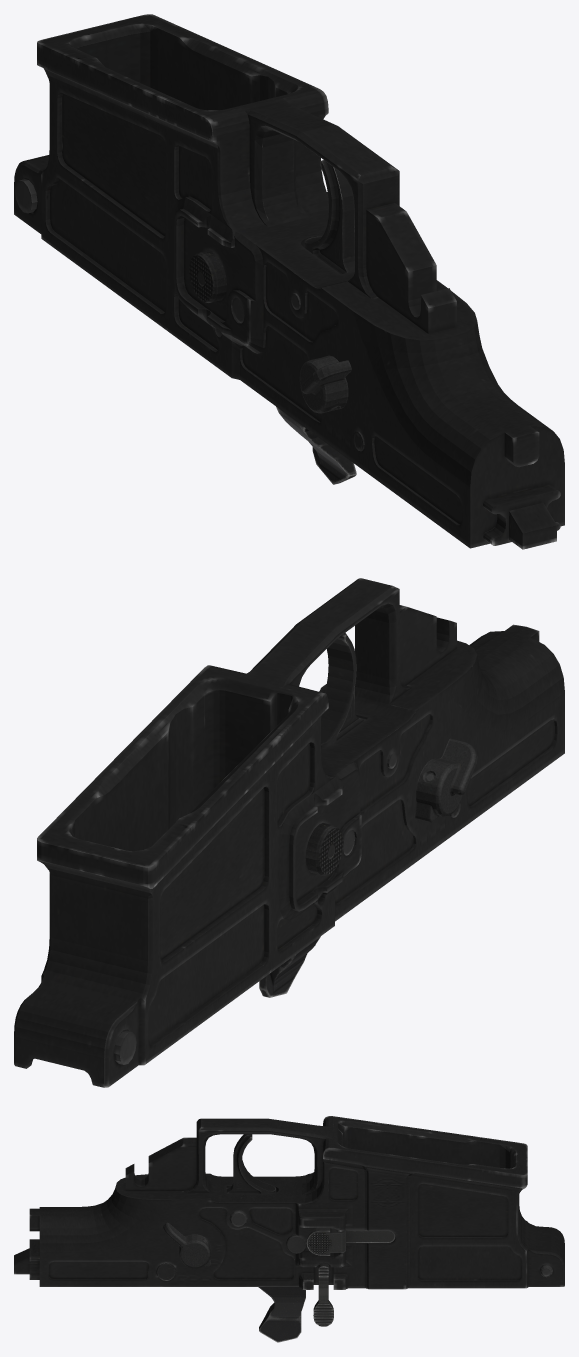
The picture shows the model from 3 angles, top to bottom: view 1: azimuth 30°, elevation 25°; view 2: azimuth 150°, elevation 25°; view 3: azimuth 270°, elevation 25°; orthographic projection. The views are drawn at different scales.
Visible parts, largest first — view 1: TW_676176d362e0497044079f4c_PZ_Import; view 2: TW_676176d362e0497044079f4c_PZ_Import; view 3: TW_676176d362e0497044079f4c_PZ_Import.
Boxes of the visible parts, x1,y1,x2,y2 form: TW_676176d362e0497044079f4c_PZ_Import: [14, 14, 564, 549]; TW_676176d362e0497044079f4c_PZ_Import: [14, 578, 564, 1087]; TW_676176d362e0497044079f4c_PZ_Import: [14, 1116, 564, 1342].
Size of the model in its own units: 0.0276 by 0.1468 by 0.0621.
Materials: 1 (1 with a texture image).
